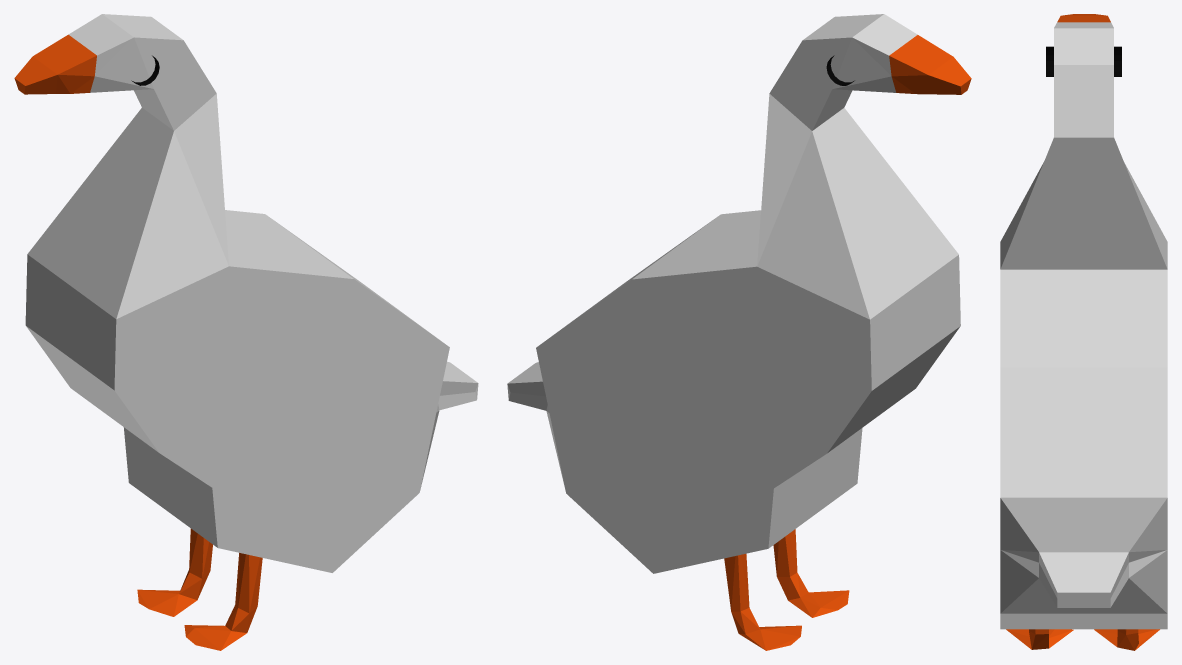
Rendered from duck.dae.
3 renders of one model, left to right at view 1: azimuth 30°, elevation 25°; view 2: azimuth 150°, elevation 25°; view 3: azimuth 270°, elevation 25°, orthographic. The views are drawn at different scales.
Visible parts, largest first — view 1: Goose, Feet; view 2: Goose, Feet; view 3: Goose, Feet, Eye.
Part boxes in pixels (bbox=[...]): Goose: bbox=[14, 14, 478, 572]; Feet: bbox=[137, 528, 262, 650]; Goose: bbox=[507, 14, 971, 573]; Feet: bbox=[724, 529, 849, 650]; Goose: bbox=[1000, 14, 1167, 629]; Feet: bbox=[1006, 629, 1159, 650]; Eye: bbox=[1046, 46, 1121, 76].
Size of the model in its own units: 1.49 by 0.5157 by 1.96.
